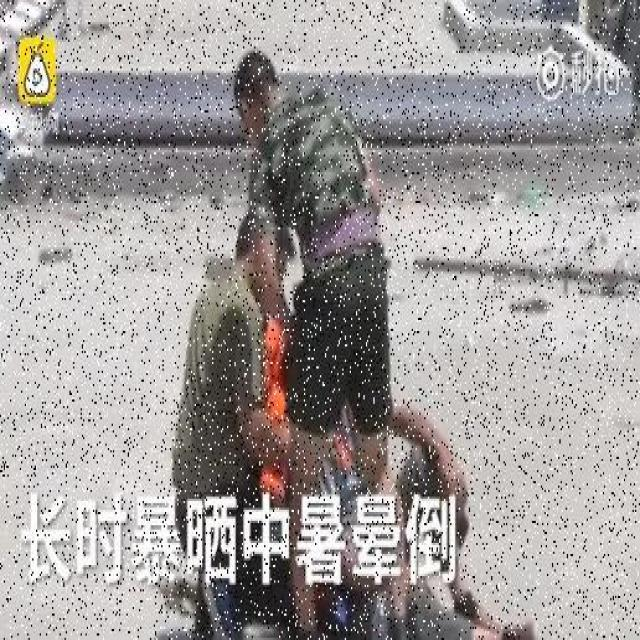fall: (266, 395, 514, 620)
